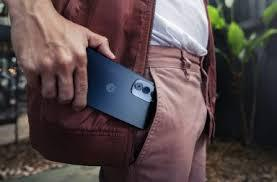Hand: (10, 18, 113, 103)
Smartphone: (89, 49, 161, 134)
